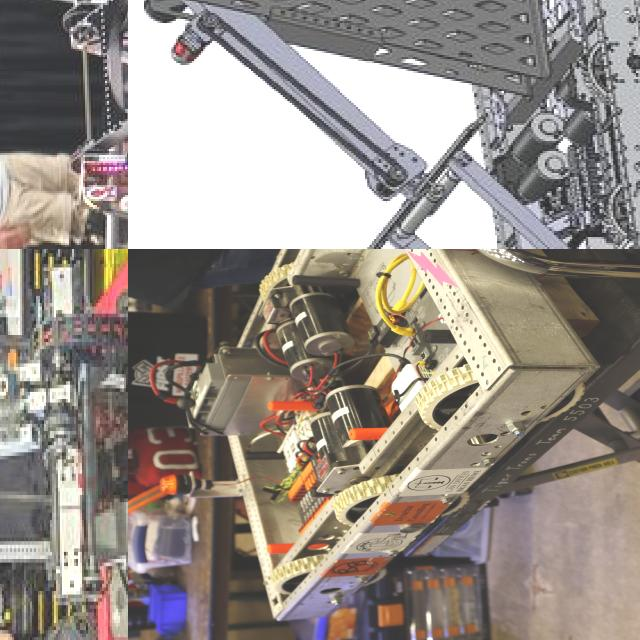FRC-Robots: (128, 249, 561, 640), (131, 0, 640, 249), (0, 249, 128, 640), (0, 0, 128, 249)
